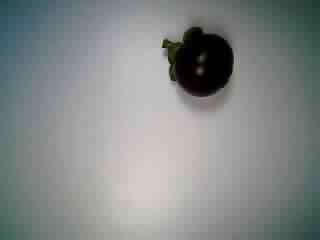mangosteen: (156, 24, 237, 104)
